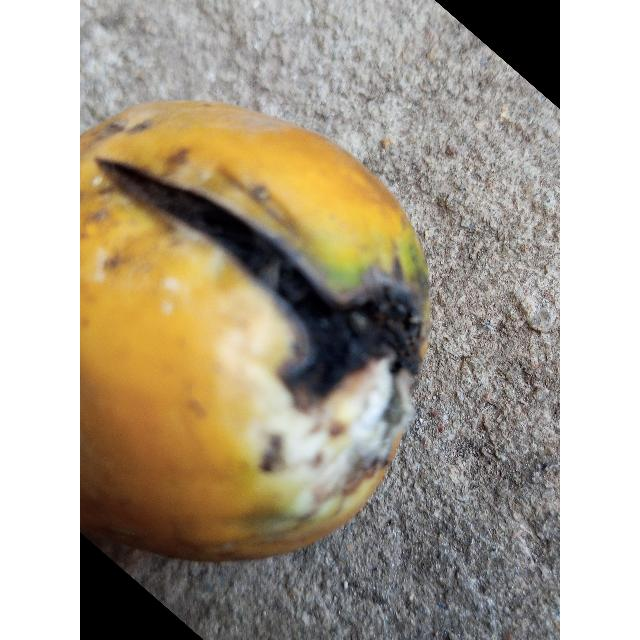damaged: (80, 101, 429, 566)
